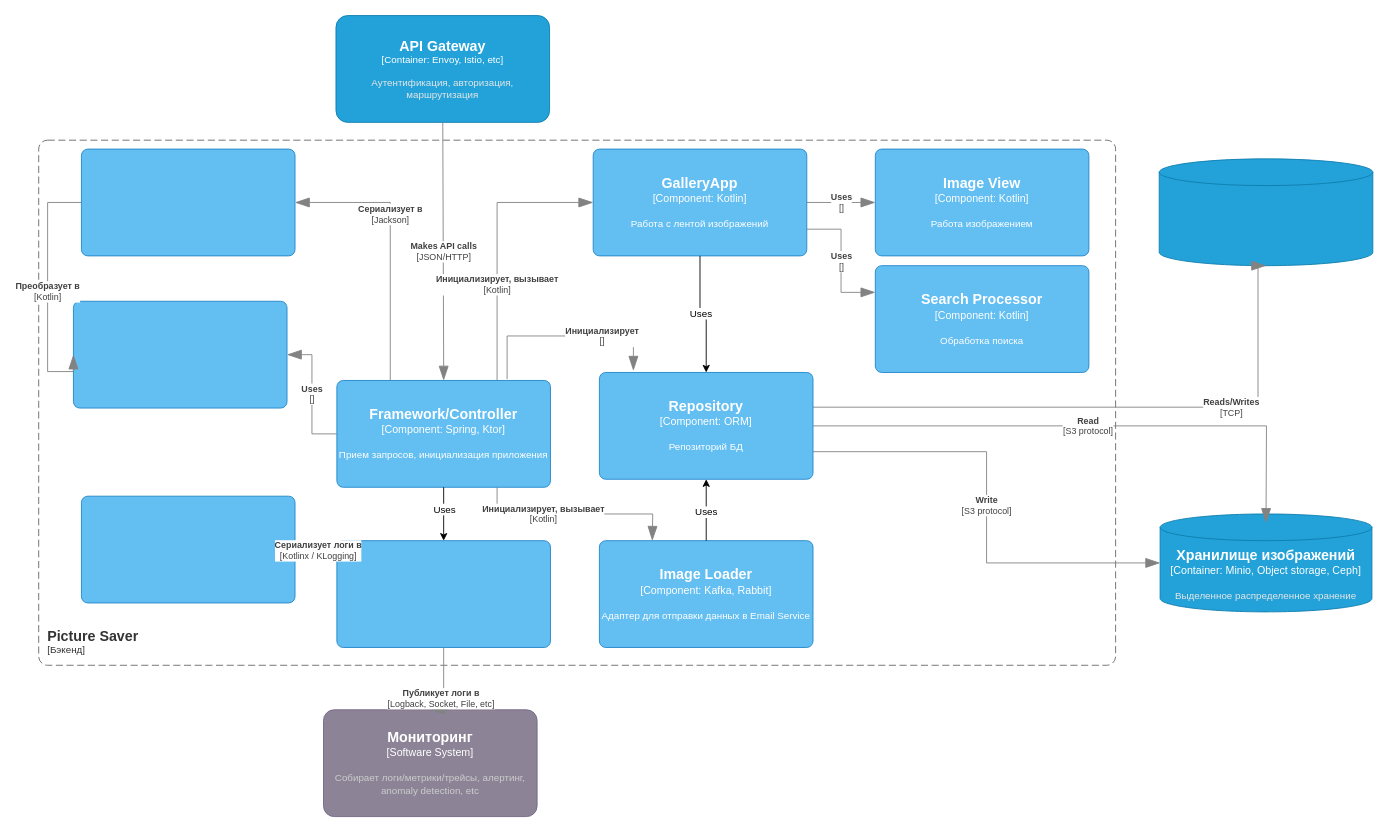
This 1388x832 diagram has some shape labels left out. The shapes that lost their labels are listed below. From the top down, each one's centre as x and y in pixels, then its label:
At point (188, 202): "API [Component: OpenAPI, Kotlin] Транспортные модели".
At point (1265, 212): "Database [DB: SQL, NoSQL, NewSQL]".
At point (180, 354): "Models [Component: Kotlin] Внутренние модели".
At point (188, 549): "LogAPI [Component: OpenAPI, Kotlin] Модели для логирования".
At point (443, 593): "Log library [Component: Kotlin] Библиотека для логирования".
